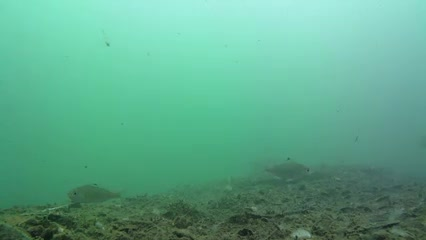smallfish: (51, 176, 128, 207), (264, 153, 321, 187)
